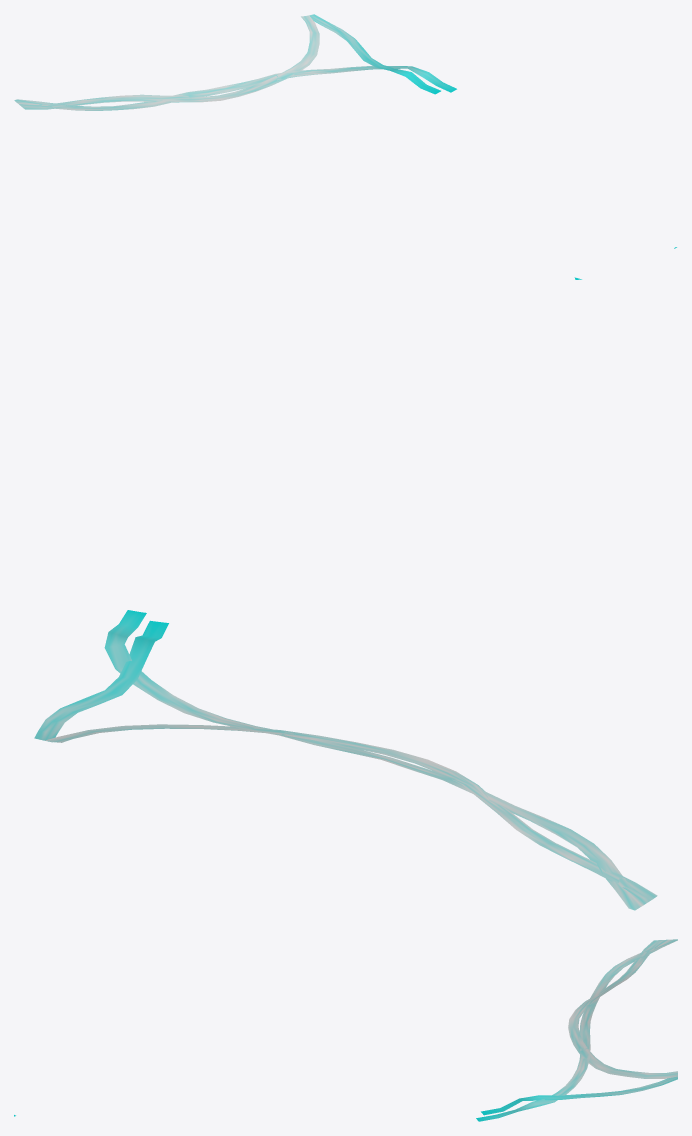
3 renders of one model, top to bottom at view 1: azimuth 30°, elevation 25°; view 2: azimuth 150°, elevation 25°; view 3: azimuth 270°, elevation 25°, orthographic. The views are drawn at different scales.
Parts seen in each view (by area): view 1: SpaceCenter_Long3_GenerateRoad_Sand_TireTracks_Width_Mesh_x1; view 2: SpaceCenter_Long3_GenerateRoad_Sand_TireTracks_Width_Mesh_x1; view 3: SpaceCenter_Long3_GenerateRoad_Sand_TireTracks_Width_Mesh_x1.
Boxes of the visible parts, x1,y1,x2,y2 form: SpaceCenter_Long3_GenerateRoad_Sand_TireTracks_Width_Mesh_x1: (14,14,676,248); SpaceCenter_Long3_GenerateRoad_Sand_TireTracks_Width_Mesh_x1: (34,277,657,910); SpaceCenter_Long3_GenerateRoad_Sand_TireTracks_Width_Mesh_x1: (14,939,677,1121).
Size of the model in its own units: 2304 by 1463 by 76.02.
